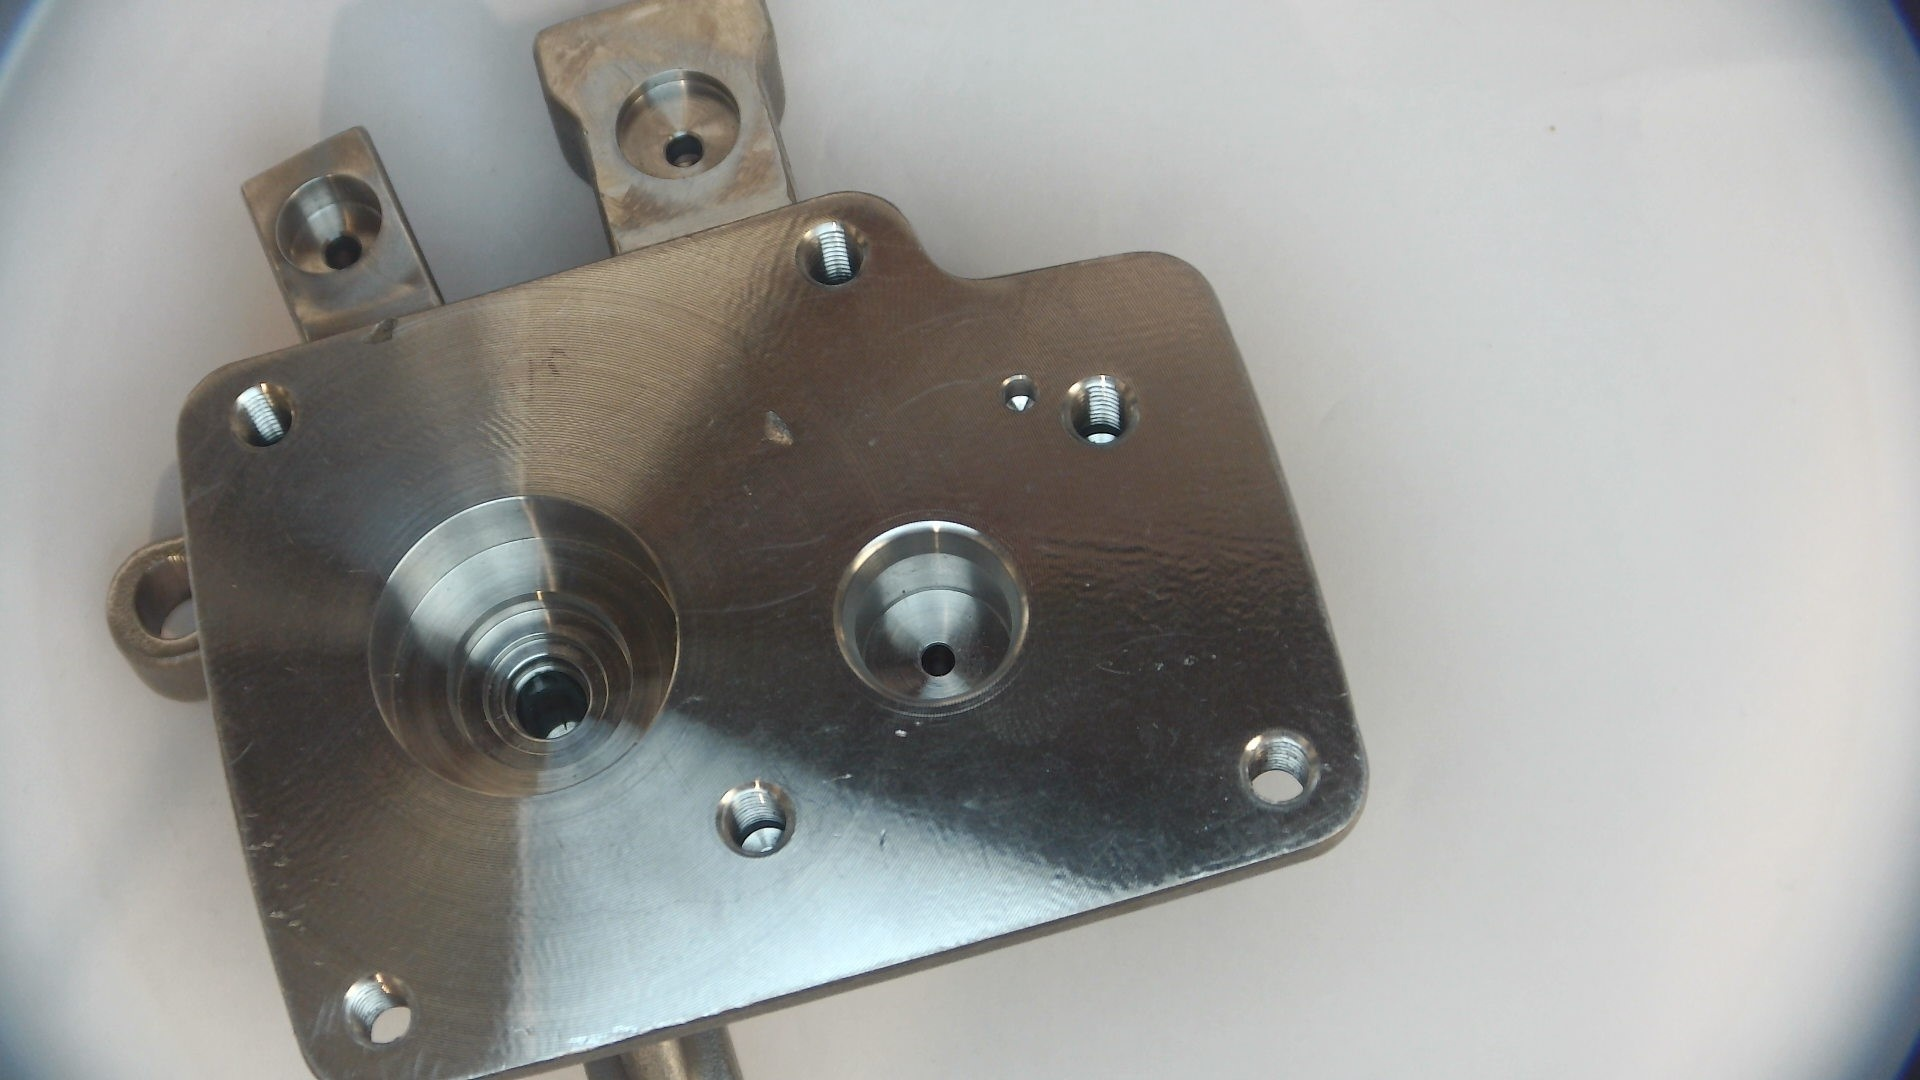dent: (756, 405, 798, 452), (363, 314, 401, 348), (872, 824, 889, 851), (1180, 651, 1197, 670), (891, 727, 909, 741), (841, 770, 855, 785), (1153, 658, 1164, 673), (1208, 651, 1218, 661)
thread_presence: (717, 785, 793, 857), (342, 971, 409, 1043), (1068, 372, 1131, 436), (231, 380, 293, 444), (1242, 733, 1312, 789), (1081, 579, 1091, 591)
